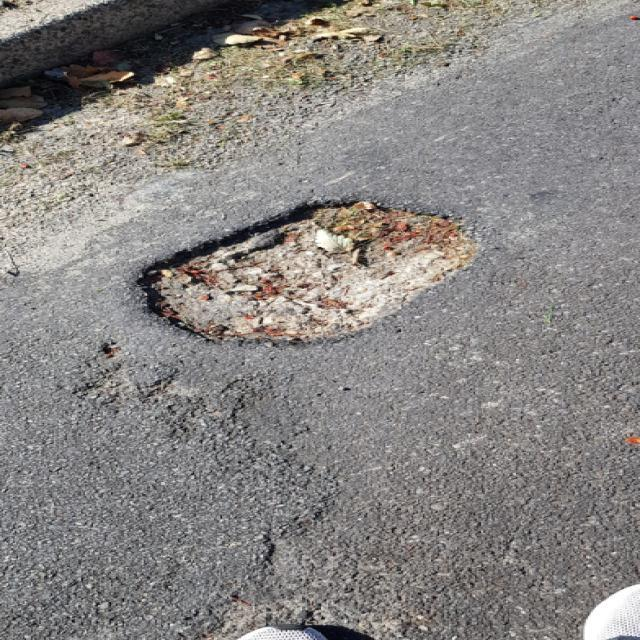pothole: (126, 192, 487, 351)
